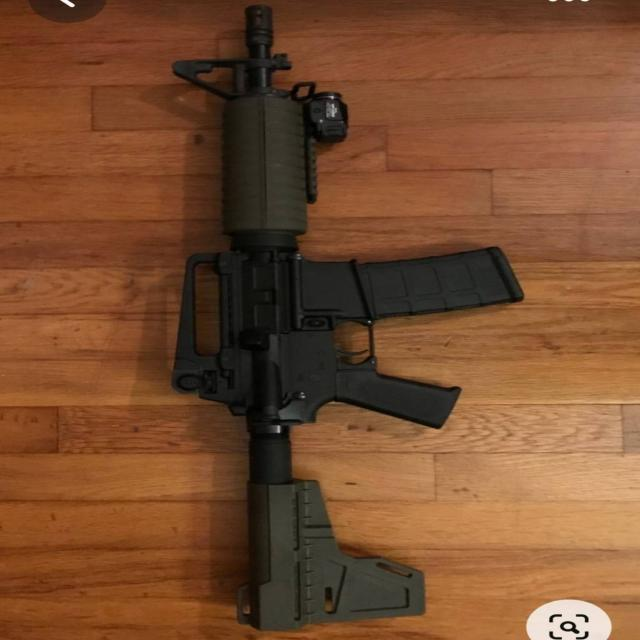m16: (126, 0, 490, 628)
